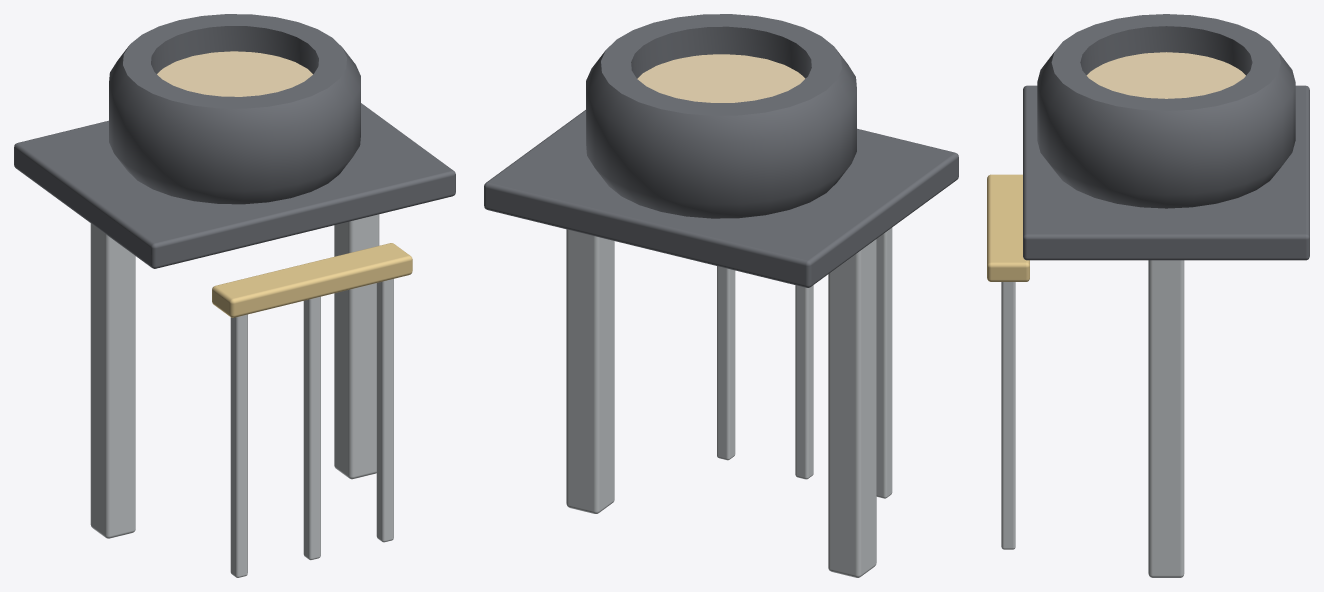
File: marquetry-and-veneer-inlay-workshop-hot-sand-shading-p-24432e84__39112.glb
3 views of the same model, side by side, from view 1: azimuth 30°, elevation 25°; view 2: azimuth 150°, elevation 25°; view 3: azimuth 270°, elevation 25° (orthographic). The views are drawn at different scales.
Visible parts, largest first — view 1: hot-sand-shading-pan-on-guarded-stand; view 2: hot-sand-shading-pan-on-guarded-stand; view 3: hot-sand-shading-pan-on-guarded-stand.
Boxes of the visible parts, x1,y1,x2,y2 form: hot-sand-shading-pan-on-guarded-stand: (14, 14, 455, 577); hot-sand-shading-pan-on-guarded-stand: (484, 14, 958, 577); hot-sand-shading-pan-on-guarded-stand: (987, 14, 1309, 577).
Bounding box in the file's own units: 0.5 × 0.69 × 0.45.
